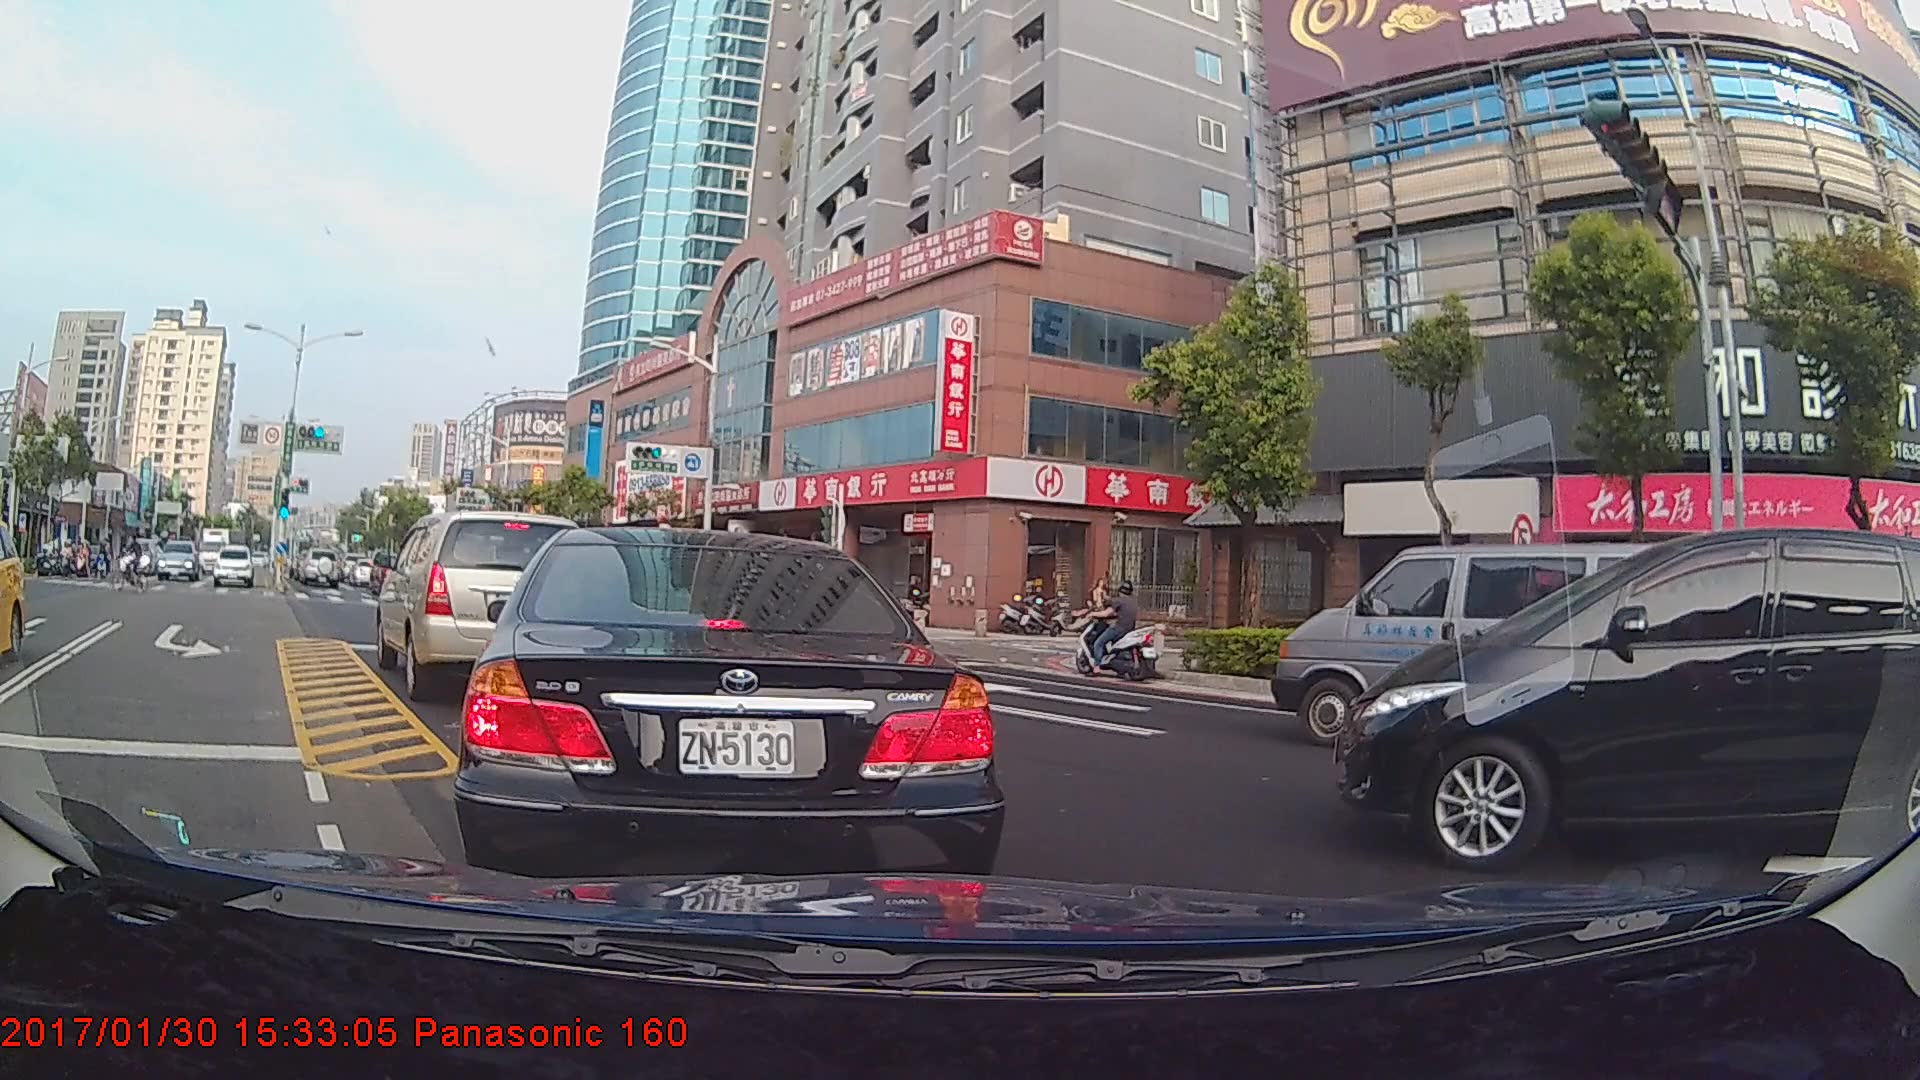pedestrian: (1090, 576, 1110, 631)
rider: (1068, 576, 1171, 687), (107, 533, 158, 594)
vehicle: (449, 520, 1007, 895), (1330, 527, 1886, 869), (1275, 537, 1687, 744), (374, 505, 589, 699), (0, 526, 26, 657), (194, 526, 251, 569), (295, 545, 346, 588), (156, 538, 202, 583), (211, 544, 255, 588), (125, 544, 161, 574)
